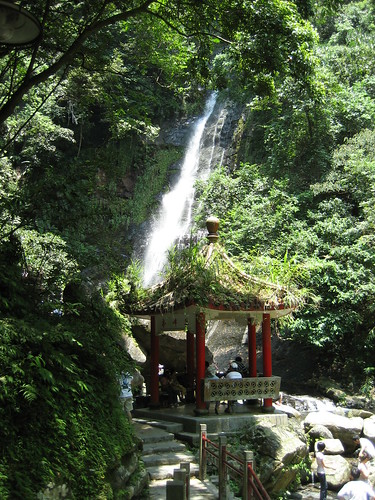wufengciWaterfall: (138, 71, 260, 290)
